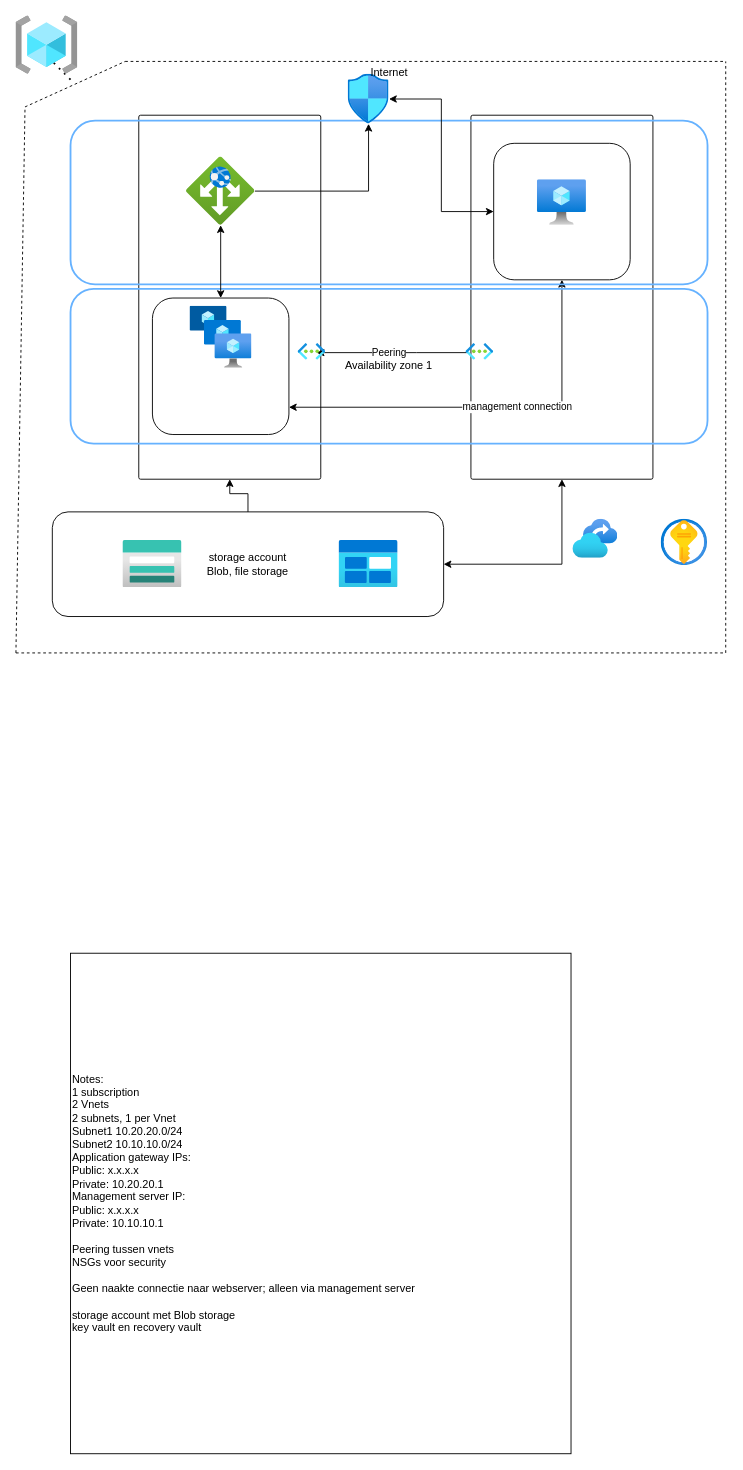
This 743x1470 diagram has some shape labels left out. The box of each missing label's shape, as (x1, y1, x2, y2) in pixels:
Availability Zone 2: (69, 119, 708, 285)
Management vnet-mngt: (493, 142, 630, 280)
VM Scaleset: (152, 297, 289, 435)
